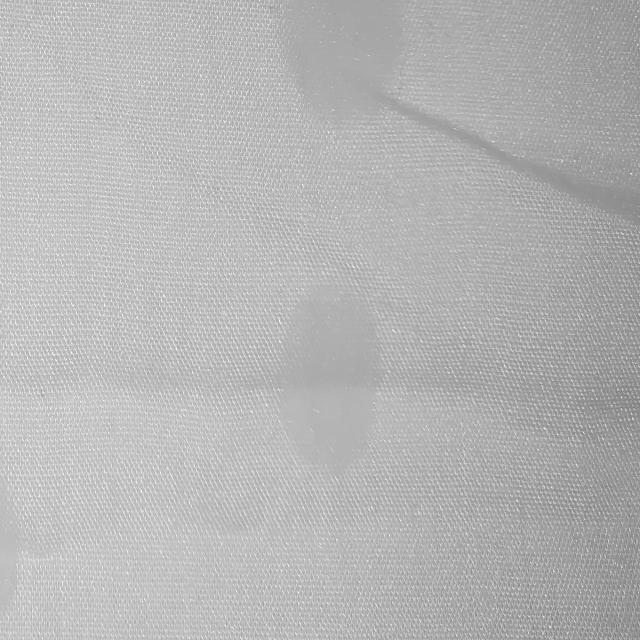Hole: (215, 0, 640, 272), (256, 284, 384, 486)
